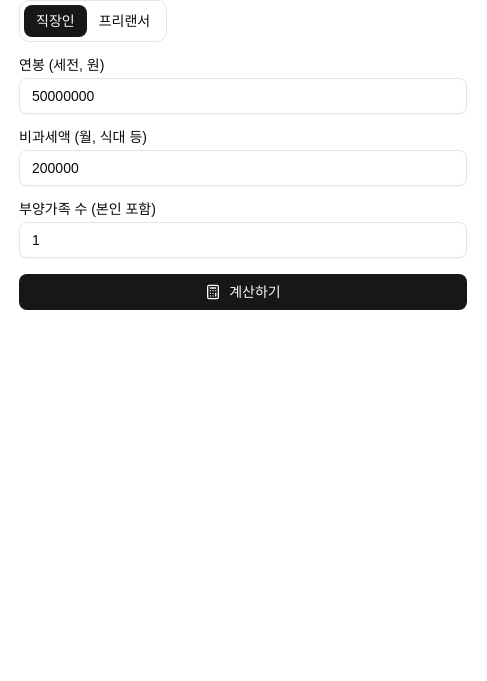
Test: TaxCalculator › computes the 직장인 result for the default inputs
The width and height of the screenshot is (487, 681).
Click the button "계산하기": coordinates (243, 292) [19, 274, 467, 310]
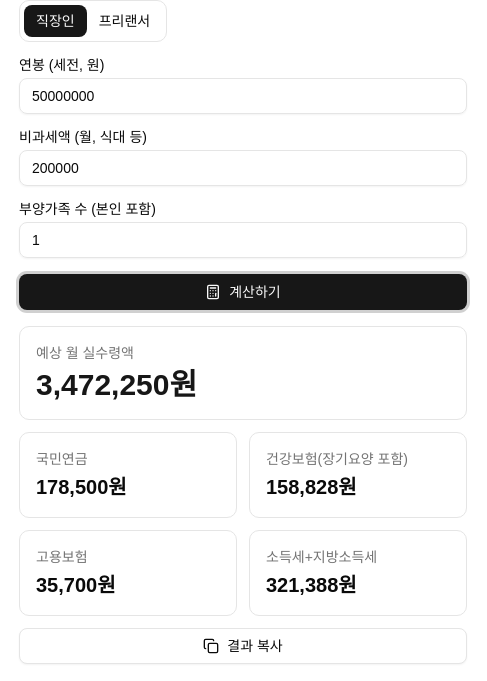
Now the text "예상 월 실수령액" is shown, box [36, 345, 134, 361]
Now the text "3,472,250원" is shown, box [36, 368, 197, 401]
